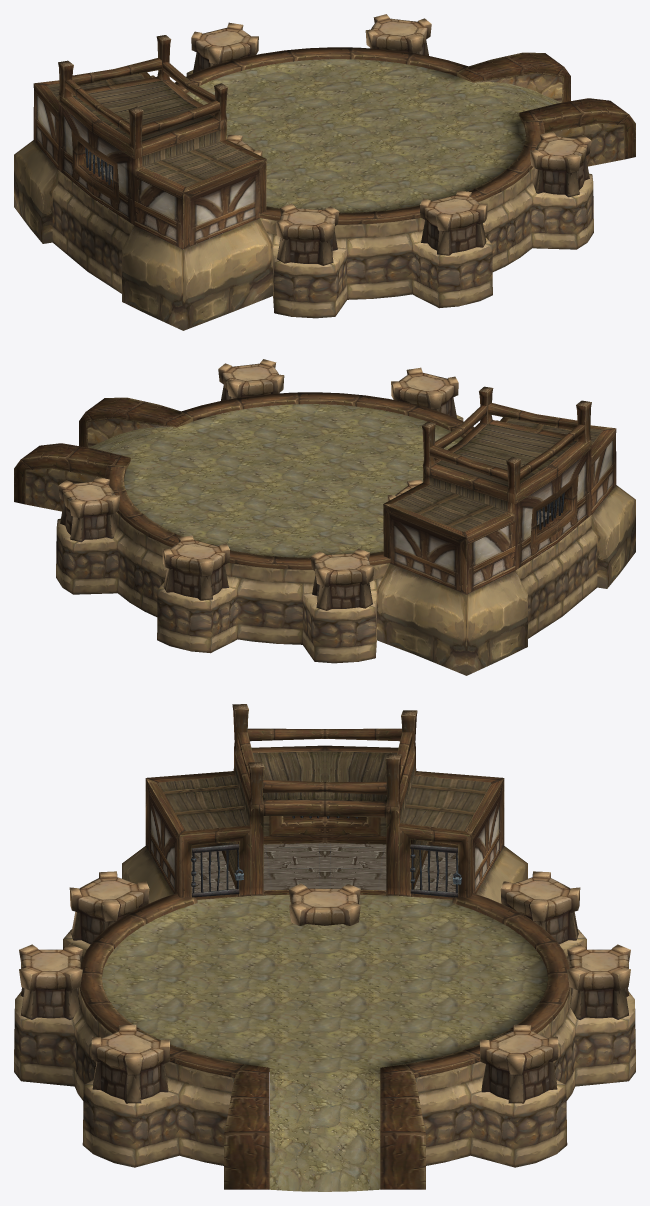
Rendered from Arena-Bronce.glb.
3 views of the same model, one above another, from view 1: azimuth 30°, elevation 25°; view 2: azimuth 150°, elevation 25°; view 3: azimuth 270°, elevation 25° (orthographic). The views are drawn at different scales.
Parts seen in each view (by area): view 1: 6hu_garrison_petstable_v2.001; view 2: 6hu_garrison_petstable_v2.001; view 3: 6hu_garrison_petstable_v2.001.
Boxes of the visible parts, x1=… form: 6hu_garrison_petstable_v2.001: x1=14, y1=14, x2=635, y2=330; 6hu_garrison_petstable_v2.001: x1=14, y1=359, x2=635, y2=675; 6hu_garrison_petstable_v2.001: x1=14, y1=704, x2=635, y2=1191.
Size of the model in its own units: 23.5 by 8.19 by 20.49.
Materials: 12 (12 with a texture image).
